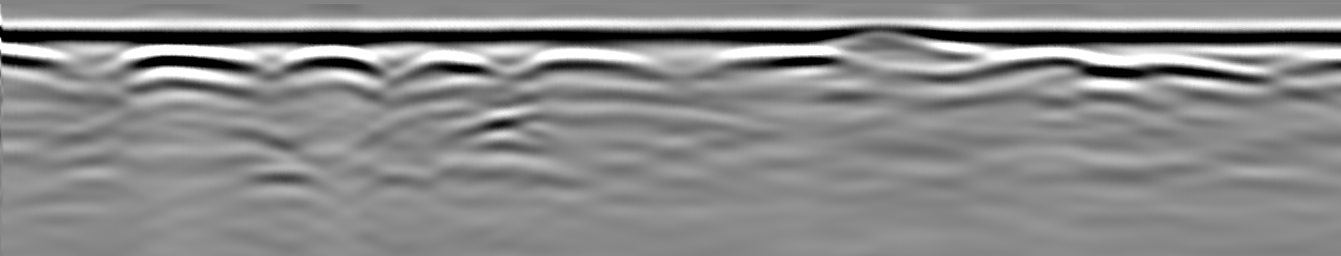pipe: (833, 24, 953, 58)
steel: (988, 48, 1265, 82), (116, 43, 262, 77), (529, 44, 660, 77), (709, 46, 837, 73), (277, 46, 388, 74), (396, 48, 496, 79), (1, 44, 68, 70)
